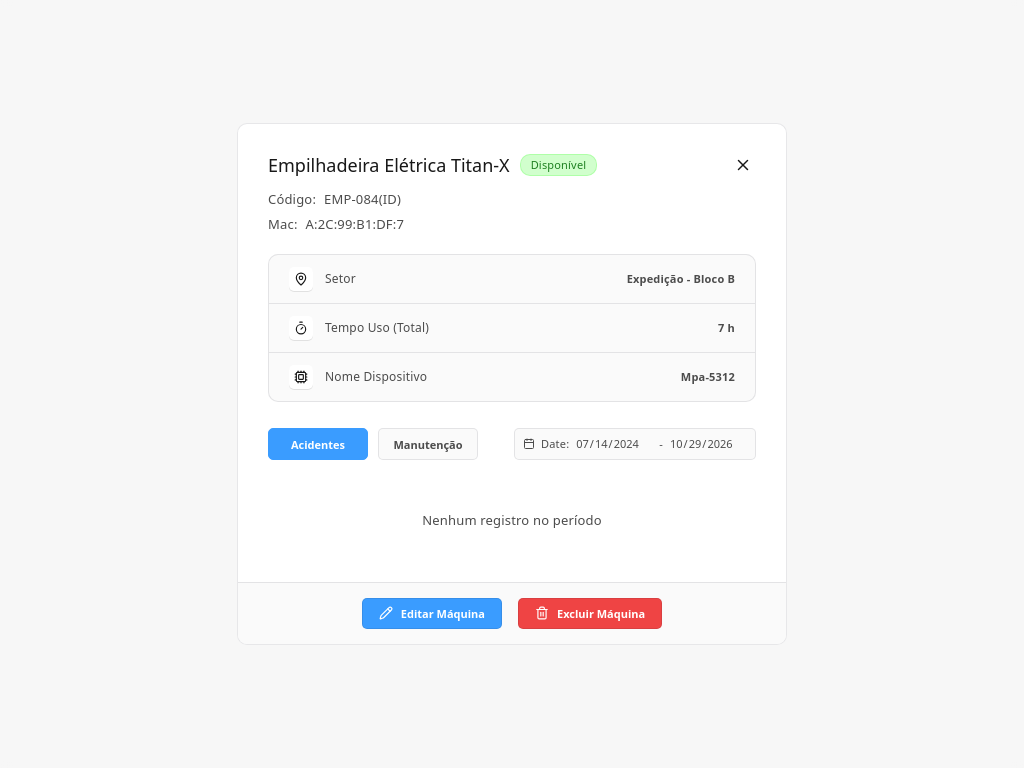
it: MachineDetailModal: history › asks the API for the period, inclusive
The width and height of the screenshot is (1024, 768).
Type "2025-09-14" into the date field named "Data inicial" at x=614, y=444, box [575,436,653,453]
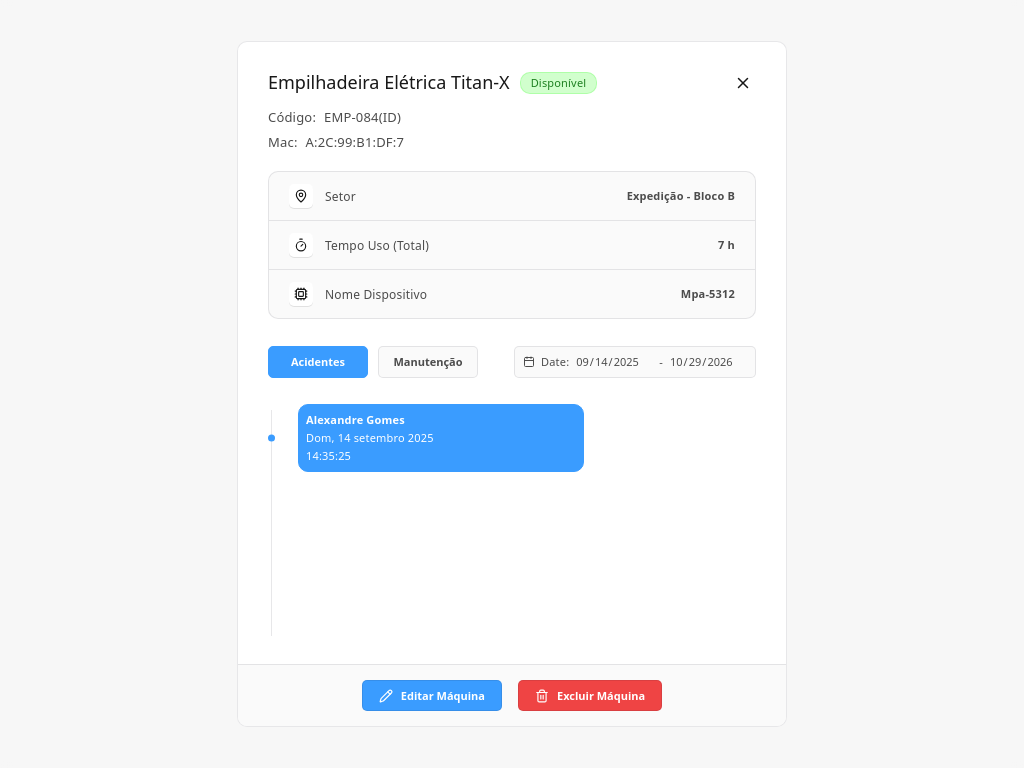
Type "2025-09-13" into the date field named "Data final" at x=708, y=362, box [669,353,747,371]
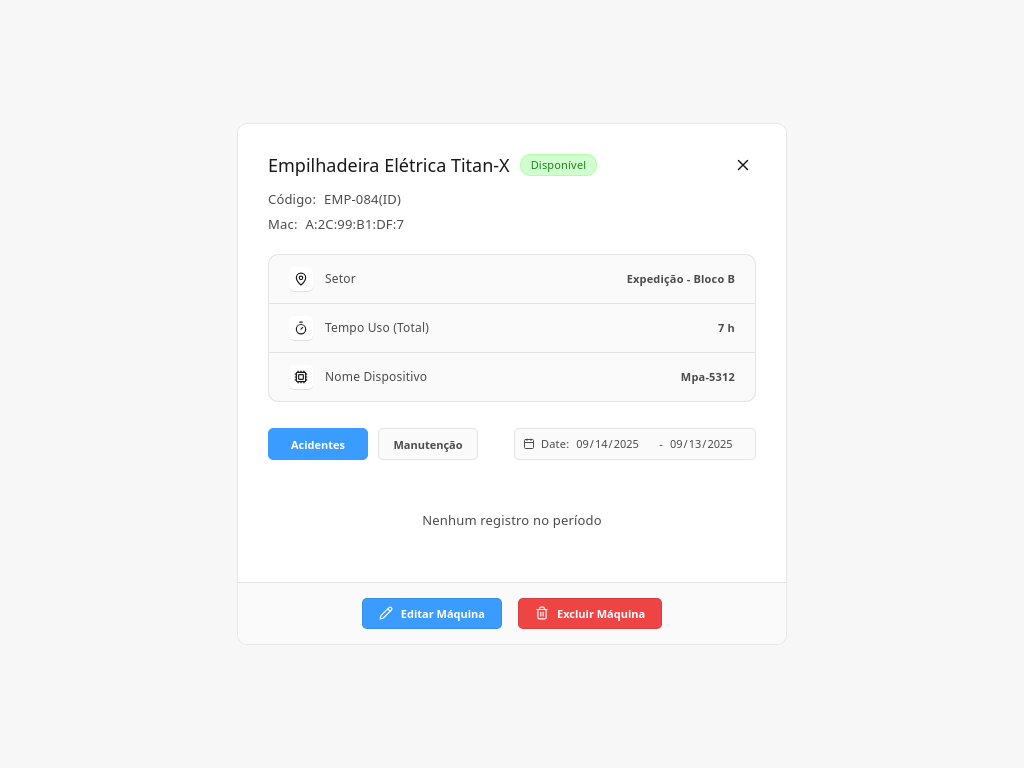
expect the text "Nenhum registro no período" is shown: met, box [422,511,602,529]
